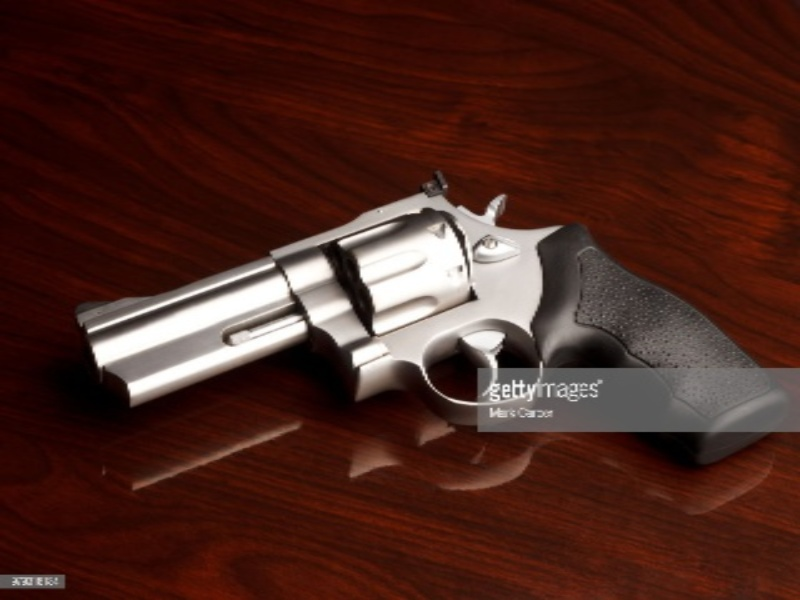weapon: (73, 170, 786, 466)
